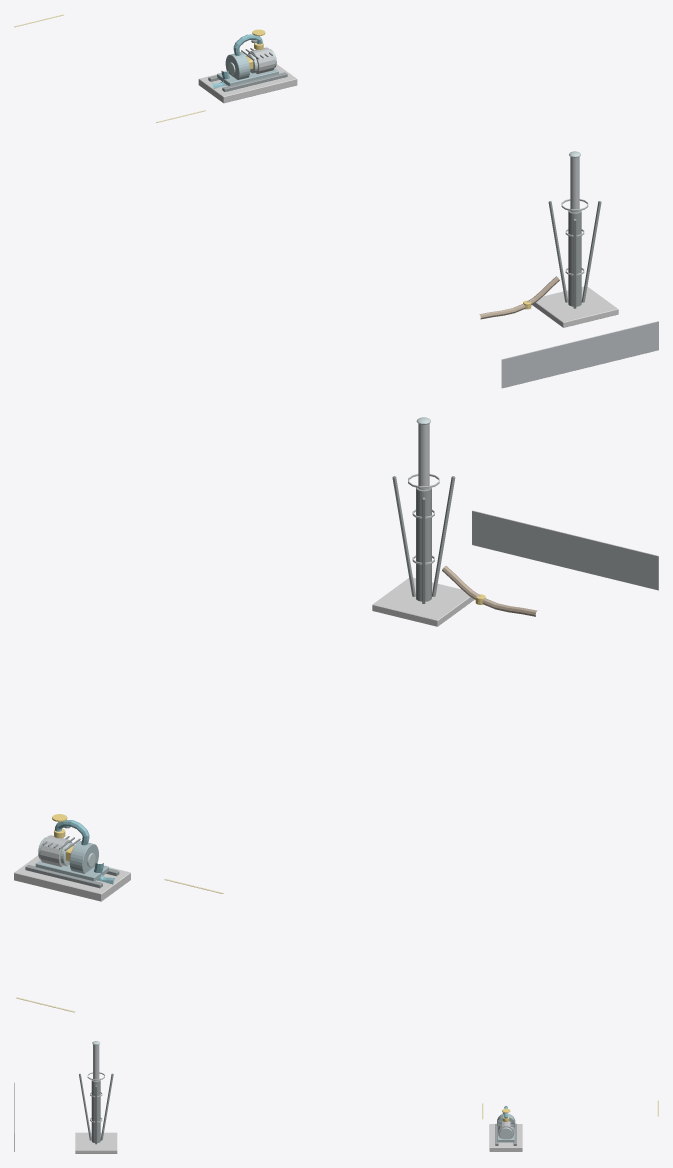
The picture shows the model from 3 angles, top to bottom: view 1: azimuth 30°, elevation 25°; view 2: azimuth 150°, elevation 25°; view 3: azimuth 270°, elevation 25°; orthographic projection. The views are drawn at different scales.
Visible parts, largest first — view 1: render-batch-4, render-batch-7, render-batch-1, render-batch-5, render-batch-2; view 2: render-batch-4, render-batch-7, render-batch-1, render-batch-5, render-batch-2; view 3: render-batch-7, render-batch-1, render-batch-5, render-batch-2.
Part boxes in pixels (x1,y1,x2,y2): render-batch-4: [501, 321, 658, 388]; render-batch-7: [198, 64, 618, 327]; render-batch-1: [208, 39, 601, 308]; render-batch-5: [248, 36, 588, 275]; render-batch-2: [217, 52, 278, 85]; render-batch-4: [472, 510, 658, 590]; render-batch-7: [14, 577, 474, 901]; render-batch-1: [25, 476, 455, 888]; render-batch-5: [40, 423, 439, 866]; render-batch-2: [35, 841, 108, 881]; render-batch-7: [75, 1124, 522, 1153]; render-batch-1: [79, 1073, 516, 1145]; render-batch-5: [87, 1044, 514, 1138]; render-batch-2: [497, 1113, 515, 1142].
Size of the model in its own units: 10.6 by 9.74 by 55.08.
